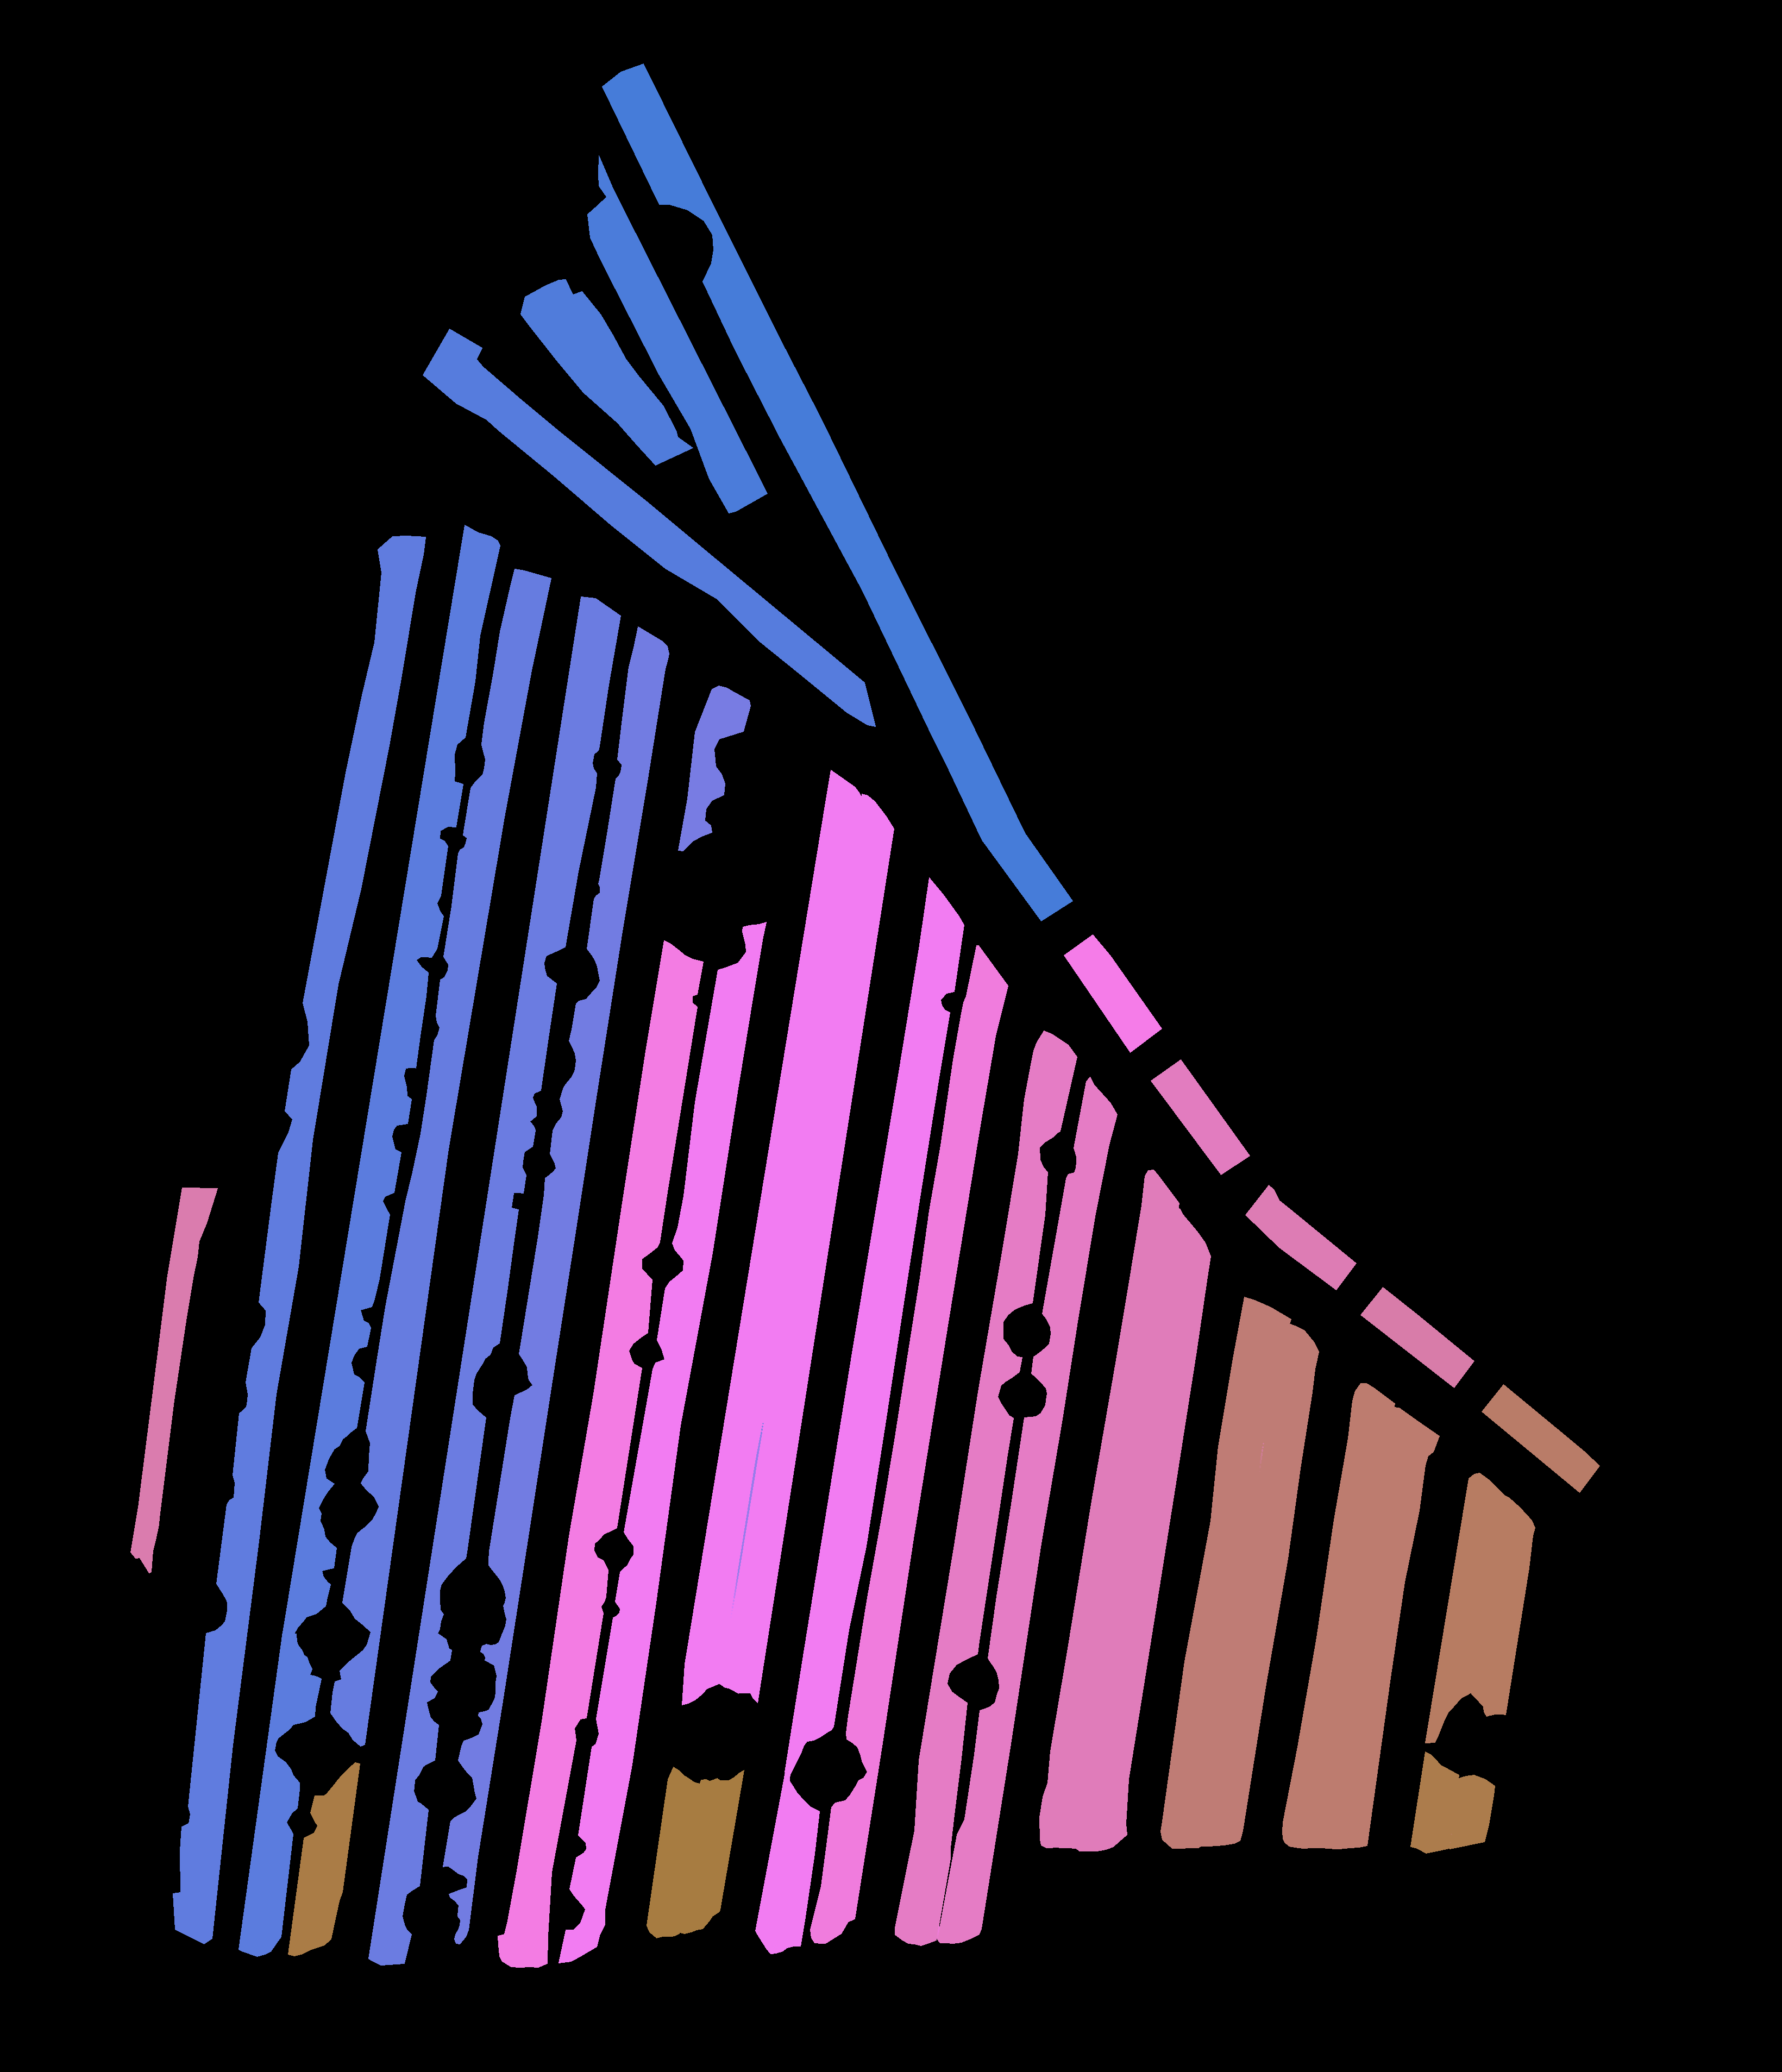parkingspot: (525, 42, 1627, 1591), (286, 576, 589, 1979), (189, 525, 474, 1975), (603, 63, 1072, 921), (412, 655, 714, 1979), (173, 536, 425, 1943), (368, 597, 620, 1965), (569, 724, 832, 1972), (442, 627, 668, 1943), (689, 816, 939, 1957), (330, 569, 552, 1746), (245, 467, 890, 869), (282, 525, 501, 1637), (113, 846, 323, 2002), (827, 964, 1065, 1965), (559, 921, 767, 1963), (497, 941, 703, 1966), (811, 946, 1008, 1943), (423, 329, 876, 726), (451, 268, 871, 684), (682, 770, 862, 1706), (968, 1096, 1158, 1972), (895, 1031, 1077, 1945), (784, 877, 964, 1774), (719, 793, 894, 1702), (938, 1077, 1117, 1943), (1040, 1170, 1179, 1848), (1110, 1242, 1253, 1859), (1075, 1207, 1211, 1852), (1223, 1336, 1371, 1864), (171, 1935, 1035, 2019), (1160, 1297, 1290, 1848), (587, 155, 767, 513), (1200, 1323, 1318, 1846), (1352, 1417, 1489, 1864), (1281, 1383, 1394, 1848), (1325, 1408, 1440, 1848), (157, 849, 270, 1207), (1567, 1563, 1653, 1984), (1475, 1506, 1572, 1861), (1012, 1931, 1585, 1991), (130, 1188, 217, 1573), (1024, 1836, 1532, 1901), (520, 278, 693, 465), (238, 1632, 321, 1956), (1424, 1473, 1505, 1743), (1472, 1494, 1535, 1716), (287, 1762, 360, 1956), (1482, 1385, 1599, 1492), (679, 685, 751, 851), (754, 1771, 820, 1954), (1244, 1184, 1355, 1290), (1151, 1059, 1250, 1175), (1065, 934, 1162, 1052), (1361, 1286, 1474, 1387), (680, 1771, 744, 1933), (647, 1767, 702, 1938), (1410, 1751, 1459, 1854), (1449, 1774, 1495, 1848)
